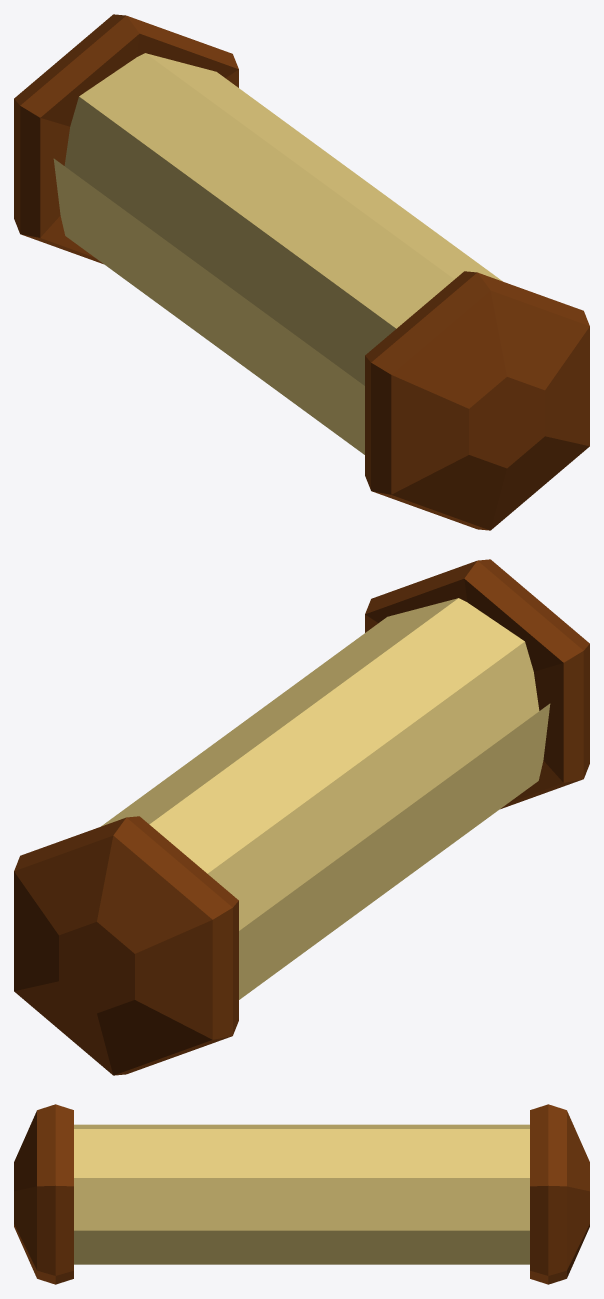
The model's file is Scroll.fbx.
3 renders of one model, top to bottom at view 1: azimuth 30°, elevation 25°; view 2: azimuth 150°, elevation 25°; view 3: azimuth 270°, elevation 25°, orthographic. The views are drawn at different scales.
Visible parts, largest first — view 1: Scroll; view 2: Scroll; view 3: Scroll.
Boxes of the visible parts, bbox=[...] form: Scroll: bbox=[14, 14, 589, 530]; Scroll: bbox=[14, 559, 589, 1075]; Scroll: bbox=[14, 1104, 589, 1284].
Bounding box in the file's own units: 70.95 × 81.93 × 237.
